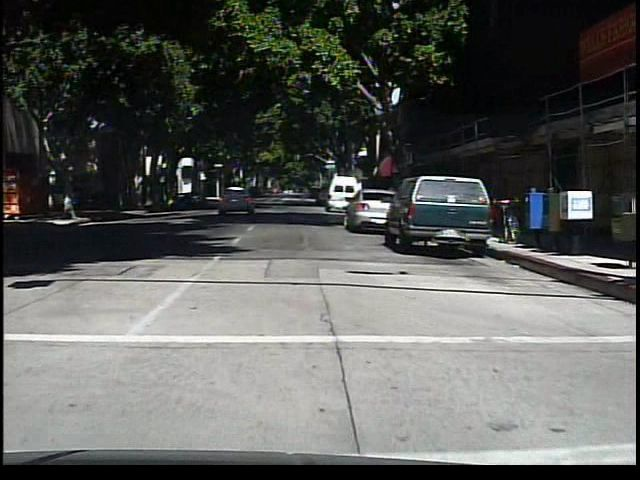person: (58, 178, 75, 220), (294, 179, 313, 206)
